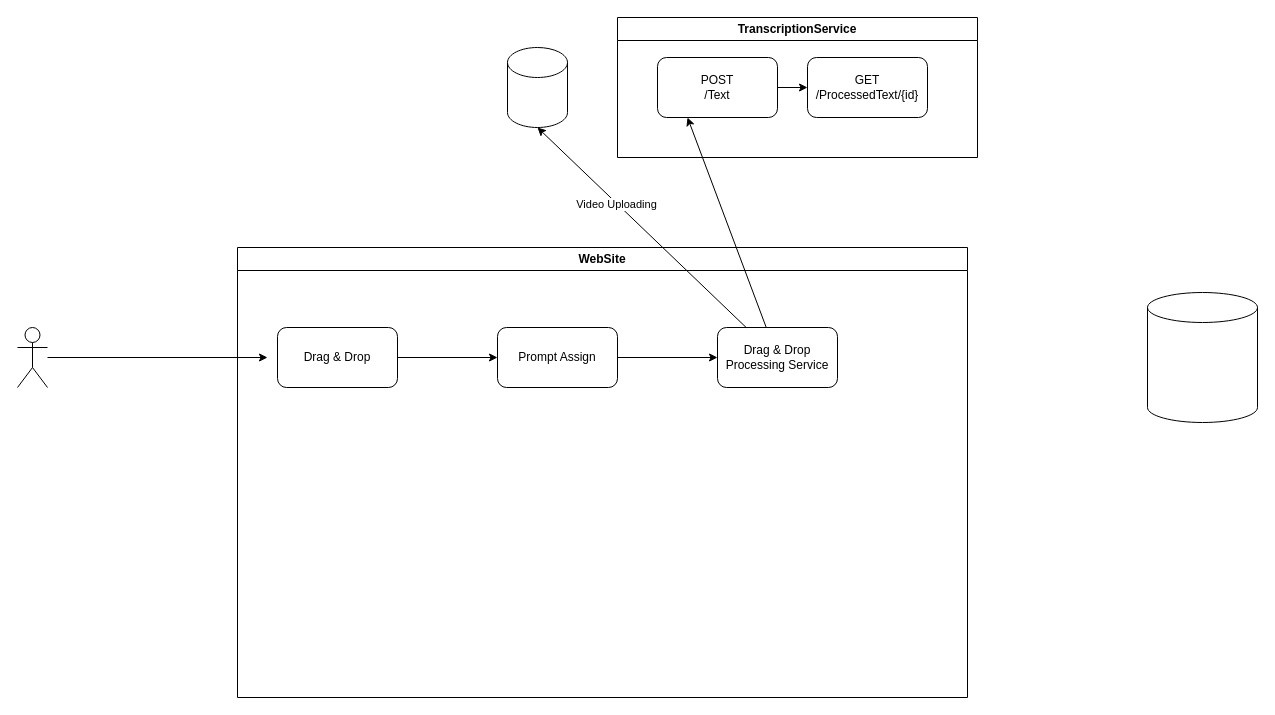
Image size: 1275x715. Some labels were removed from this diagram. The shapes that lost their labels are listed below. From the top down, each one's centre as x and y in pixels, then its label:
(x=537, y=87): YouTube
(x=32, y=357): User
(x=1202, y=357): ChatGPT.API
